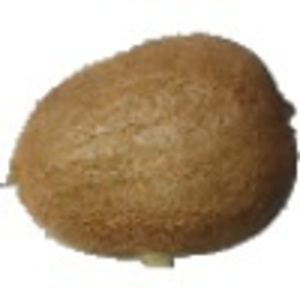kiwi: (1, 31, 300, 272)
